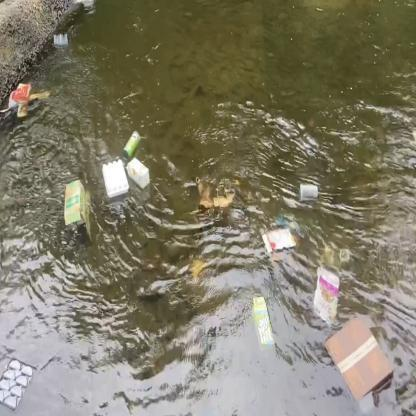trash: (324, 314, 396, 406), (1, 74, 54, 126), (0, 351, 40, 416), (60, 175, 96, 245), (312, 263, 342, 330), (248, 293, 278, 357), (195, 174, 236, 215), (100, 154, 132, 206), (261, 224, 298, 258), (122, 156, 152, 194), (119, 126, 140, 164), (50, 27, 72, 54), (298, 180, 320, 202)
